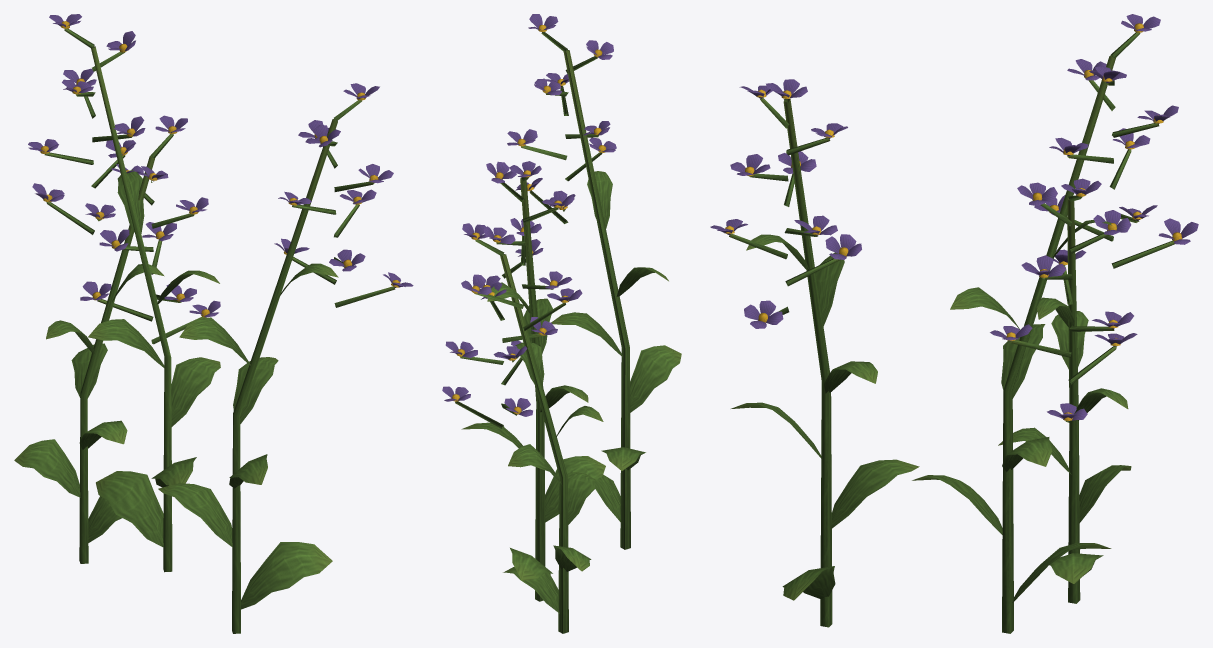
File: MeadowClary_A.fbx
The picture shows the model from 3 angles, left to right: view 1: azimuth 30°, elevation 25°; view 2: azimuth 150°, elevation 25°; view 3: azimuth 270°, elevation 25°; orthographic projection. The views are drawn at different scales.
Parts seen in each view (by area): view 1: MeadowClary_A_LOD0; view 2: MeadowClary_A_LOD0; view 3: MeadowClary_A_LOD0.
Part boxes in pixels (x1=…): MeadowClary_A_LOD0: x1=14, y1=14, x2=413, y2=633; MeadowClary_A_LOD0: x1=442, y1=14, x2=681, y2=633; MeadowClary_A_LOD0: x1=710, y1=14, x2=1198, y2=633.
Size of what is drawn, in the model's own units: 12.51 by 27.2 by 20.1.
1 material, 1 textured.
